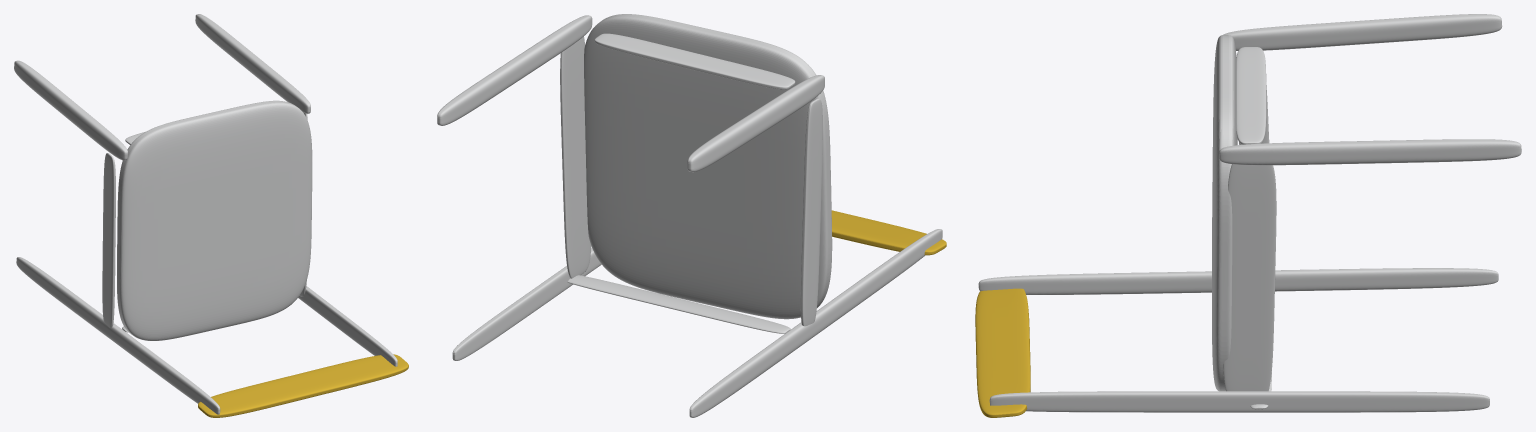
Rendered from 01_a_chair_sq.glb.
3 renders of one model, left to right at view 1: azimuth 30°, elevation 25°; view 2: azimuth 150°, elevation 25°; view 3: azimuth 270°, elevation 25°, orthographic. The views are drawn at different scales.
Visible parts, largest first — view 1: superquadric_8, superquadric_7, superquadric_1, superquadric_0, superquadric_5, superquadric_9, superquadric_3; view 2: superquadric_8, superquadric_1, superquadric_4, superquadric_9, superquadric_5, superquadric_0, superquadric_6, superquadric_3, superquadric_2, superquadric_7; view 3: superquadric_3, superquadric_4, superquadric_1, superquadric_8, superquadric_5, superquadric_7, superquadric_0, superquadric_6.
Boxes of the visible parts, left/top/right/bottom form: superquadric_8: left=117, top=100, right=312, bottom=340; superquadric_7: left=198, top=354, right=408, bottom=417; superquadric_1: left=16, top=257, right=220, bottom=414; superquadric_0: left=14, top=60, right=127, bottom=160; superquadric_5: left=195, top=14, right=310, bottom=113; superquadric_9: left=102, top=153, right=115, bottom=327; superquadric_3: left=298, top=286, right=397, bottom=366; superquadric_8: left=584, top=14, right=832, bottom=319; superquadric_1: left=689, top=229, right=942, bottom=417; superquadric_4: left=560, top=36, right=591, bottom=278; superquadric_9: left=800, top=98, right=822, bottom=326; superquadric_5: left=437, top=15, right=592, bottom=125; superquadric_0: left=687, top=75, right=824, bottom=172; superquadric_6: left=594, top=33, right=795, bottom=89; superquadric_3: left=452, top=248, right=601, bottom=360; superquadric_2: left=567, top=275, right=790, bottom=333; superquadric_7: left=831, top=210, right=946, bottom=255; superquadric_3: left=989, top=391, right=1489, bottom=412; superquadric_4: left=1223, top=164, right=1276, bottom=391; superquadric_1: left=978, top=268, right=1498, bottom=294; superquadric_8: left=1212, top=35, right=1237, bottom=391; superquadric_5: left=1219, top=139, right=1521, bottom=165; superquadric_7: left=975, top=288, right=1030, bottom=417; superquadric_0: left=1223, top=14, right=1502, bottom=50; superquadric_6: left=1236, top=47, right=1266, bottom=144.
Bounding box in the file's own units: 0.5588 × 0.5669 × 1.
